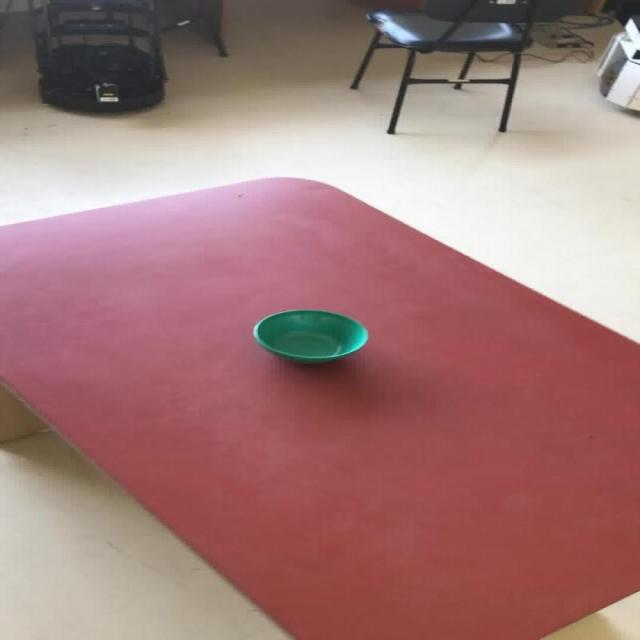Bowl: (250, 308, 368, 364)
